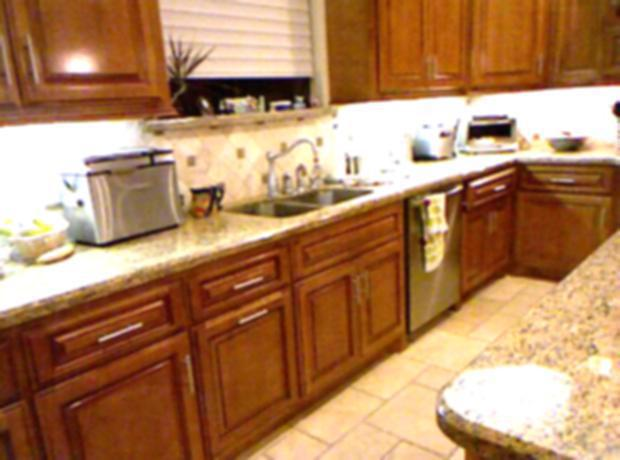Lavaplatos: (209, 135, 377, 234)
